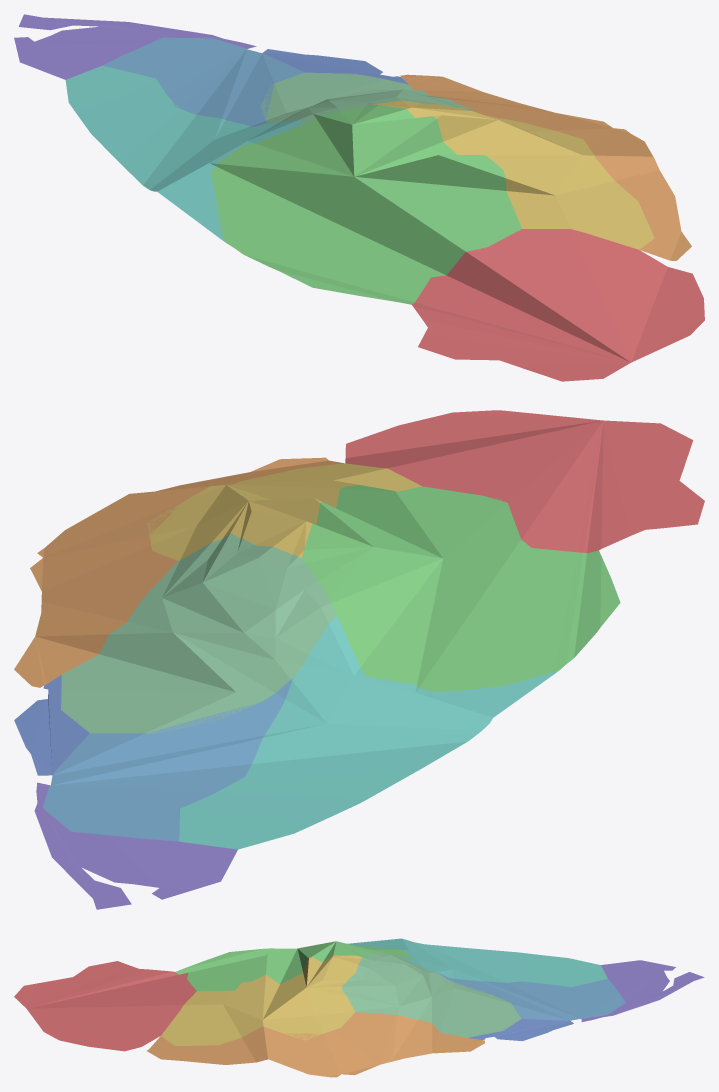
File: srilanka_provinces.glb
The picture shows the model from 3 angles, top to bottom: view 1: azimuth 30°, elevation 25°; view 2: azimuth 150°, elevation 25°; view 3: azimuth 270°, elevation 25°; orthographic projection. The views are drawn at different scales.
Visible parts, largest first — view 1: North Western, Northern, Western, North Central, Sabaragamuwa, Eastern, Southern, Central, Uva; view 2: North Western, Central, Western, Northern, Sabaragamuwa, Eastern, North Central, Southern, Uva; view 3: Northern, Eastern, North Central, Central, Western, North Western, Sabaragamuwa, Southern, Uva.
Part boxes in pixels (box(x1,y1,x2,y2)): North Western: box(210, 105, 521, 304); Northern: box(412, 229, 704, 381); Western: box(65, 65, 303, 242); North Central: box(372, 100, 654, 249); Sabaragamuwa: box(103, 37, 304, 126); Eastern: box(400, 74, 691, 260); Southern: box(14, 14, 264, 79); Central: box(260, 72, 476, 123); Uva: box(264, 49, 408, 84); North Western: box(302, 485, 620, 692); Central: box(61, 533, 336, 733); Western: box(179, 616, 559, 849); Northern: box(345, 410, 704, 552); Sabaragamuwa: box(43, 678, 293, 841); Eastern: box(14, 457, 343, 687); North Central: box(147, 463, 421, 560); Southern: box(34, 773, 237, 909); Uva: box(14, 675, 89, 775); Northern: box(14, 961, 196, 1051); Eastern: box(147, 1012, 484, 1077); North Central: box(161, 955, 362, 1046); Central: box(341, 952, 521, 1037); Western: box(347, 938, 607, 986); North Western: box(176, 941, 412, 991); Sabaragamuwa: box(436, 972, 625, 1020); Southern: box(569, 960, 704, 1021); Uva: box(468, 1019, 573, 1041).
Bounding box in the file's own units: 0.4034 × 0.0801 × 0.864.
